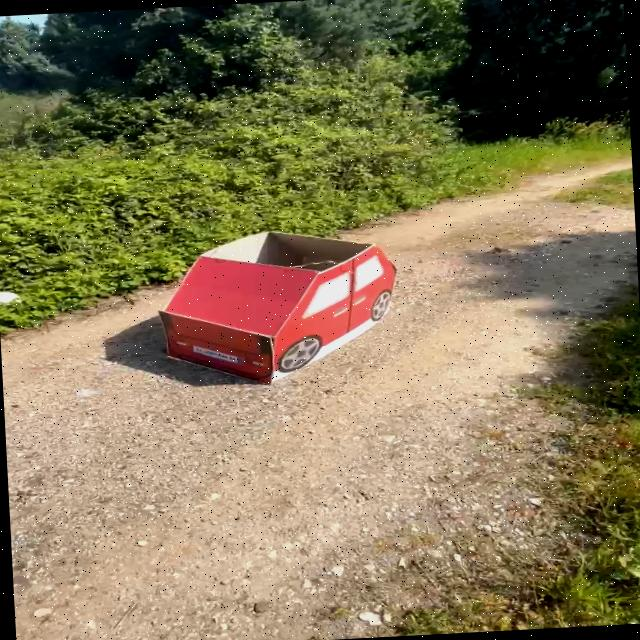red_car: (131, 208, 433, 409)
